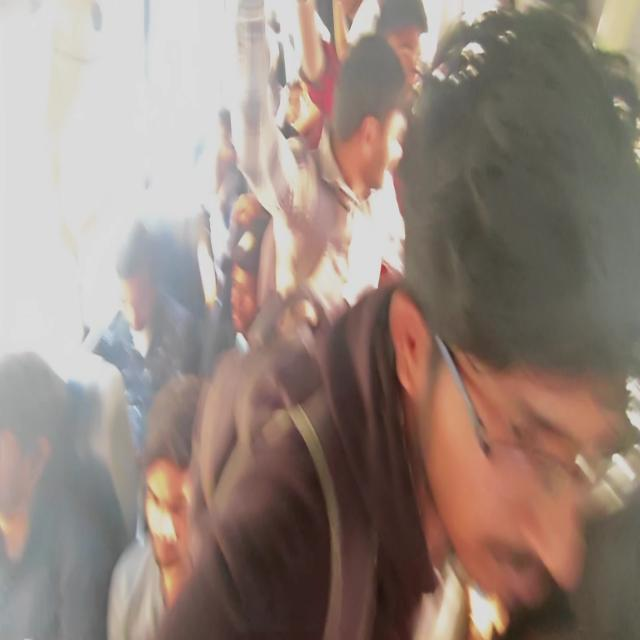person: (423, 93, 622, 578), (7, 368, 70, 530), (146, 401, 205, 565), (342, 58, 419, 176), (120, 229, 164, 341), (206, 96, 250, 189), (224, 203, 261, 309), (375, 0, 423, 71), (288, 82, 312, 146)
